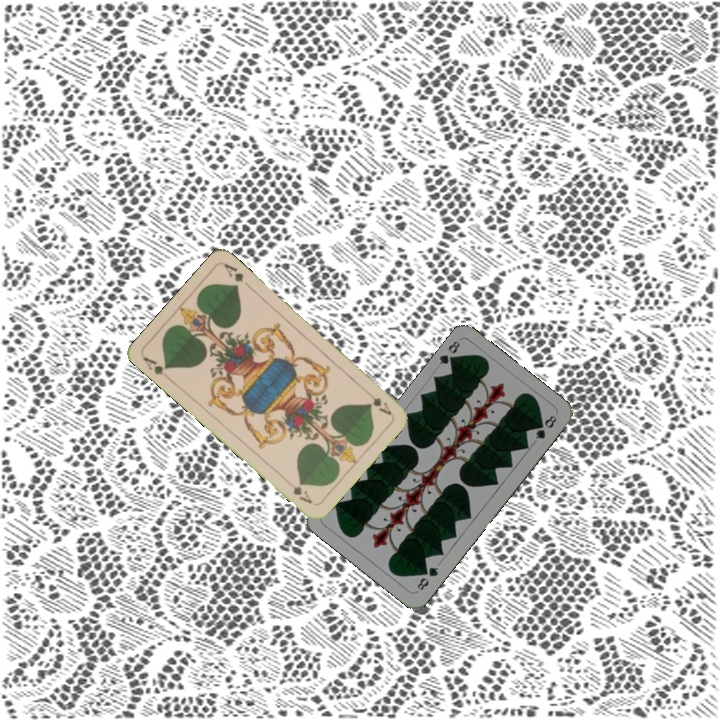G8: (435, 335, 463, 369), (413, 563, 441, 593)
GA: (139, 352, 173, 383), (363, 386, 394, 418)
